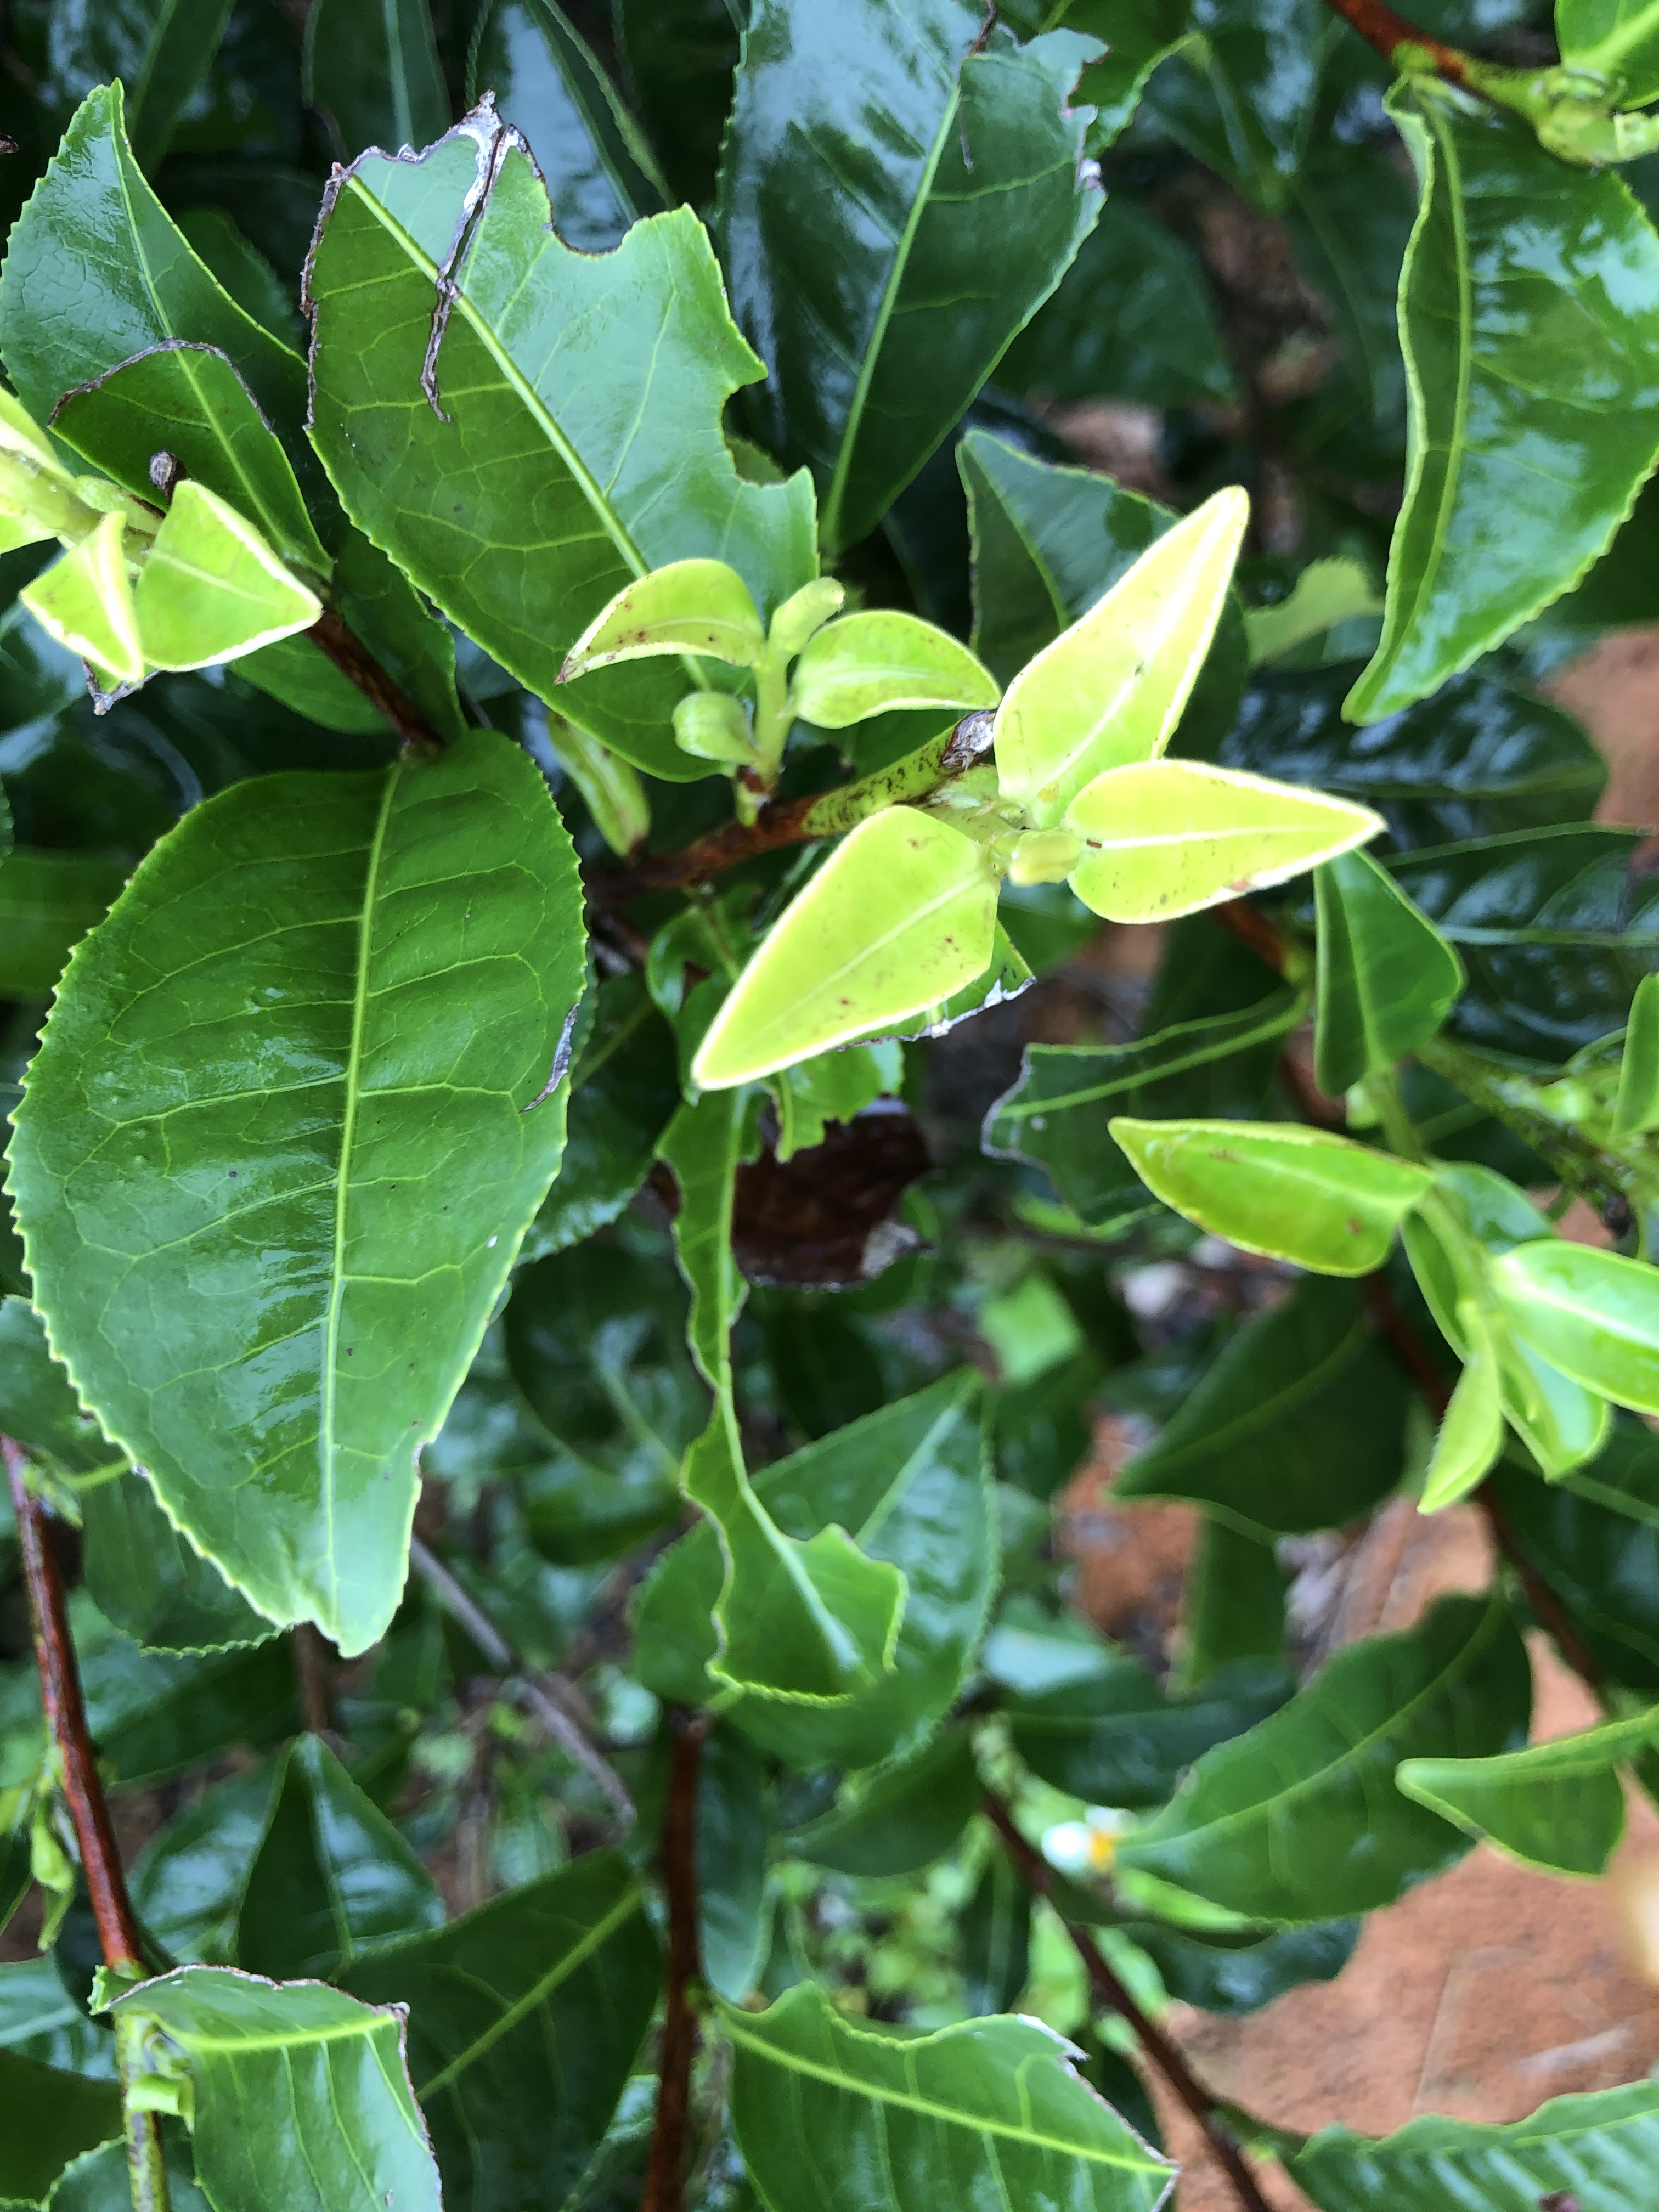fungi_early: (688, 806, 1012, 1103), (1047, 754, 1384, 942), (552, 559, 774, 704)
